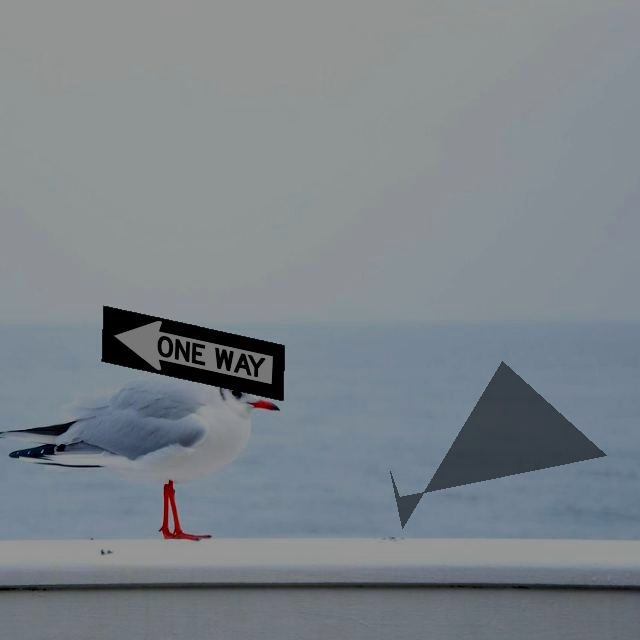ONE_WAY_ left: (101, 305, 285, 401)
